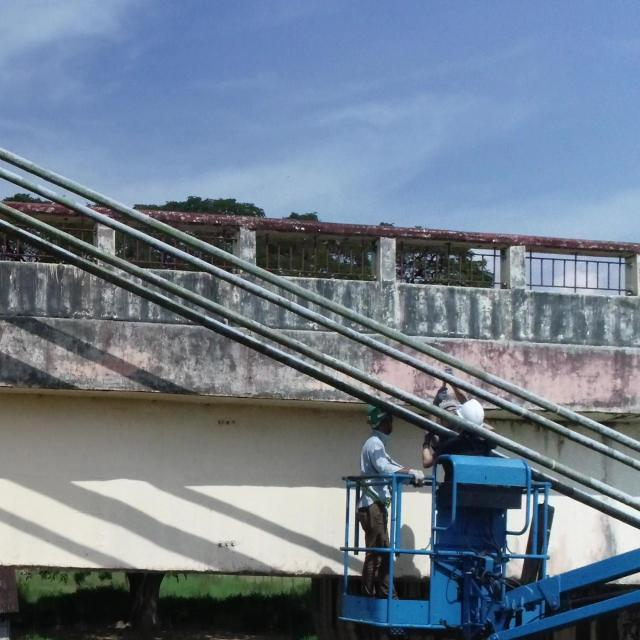crack: (278, 297, 281, 302)
